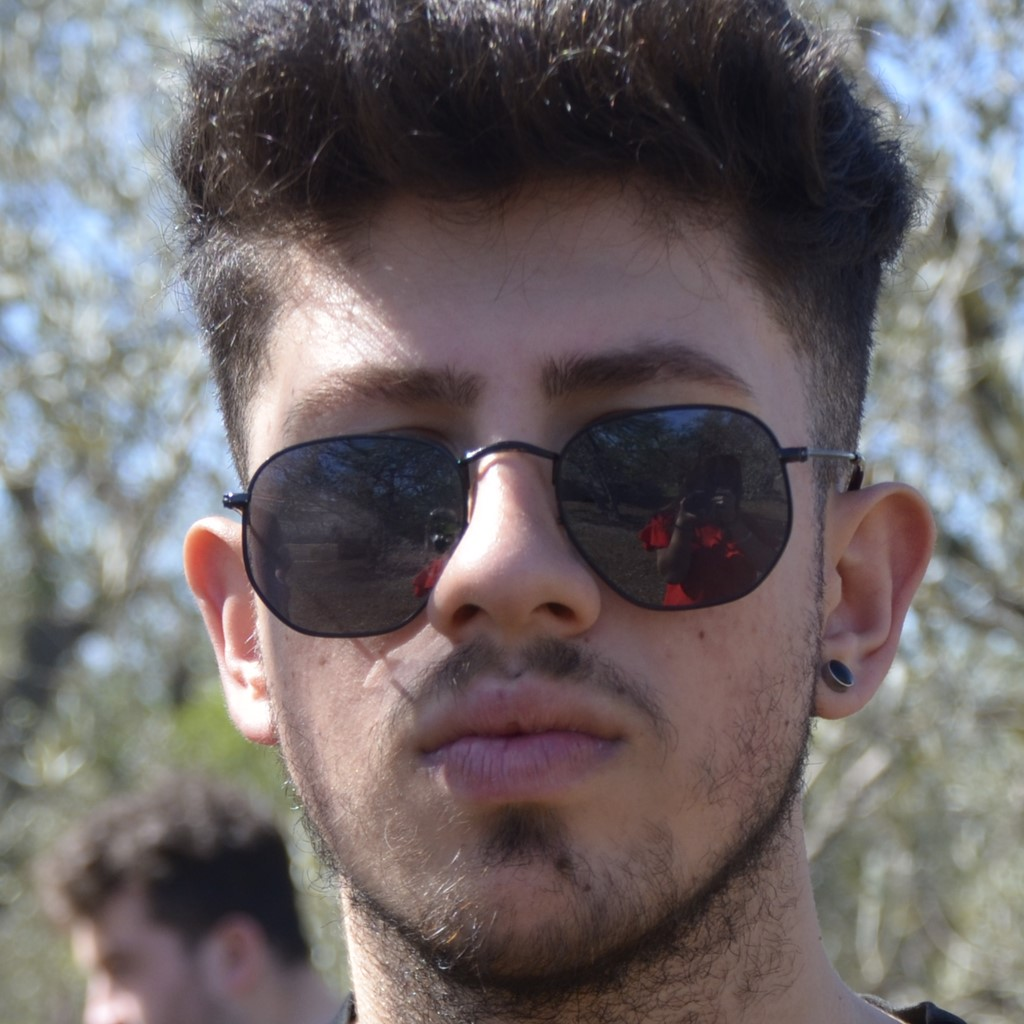sin_mascara: (207, 79, 865, 981)
